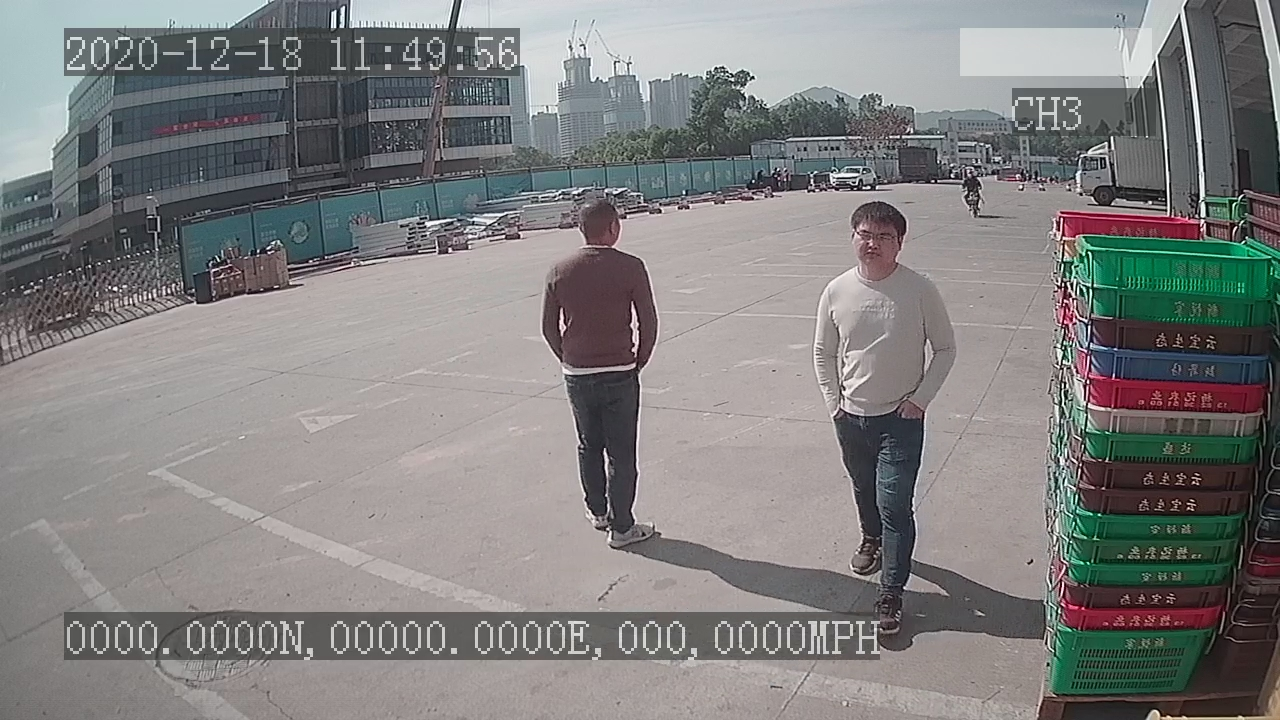person: (535, 195, 665, 554)
